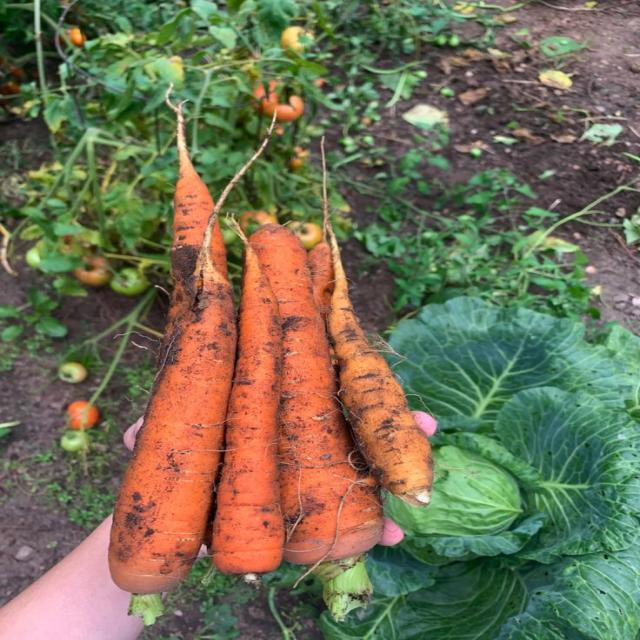carrot: (109, 121, 274, 623), (250, 225, 381, 564), (109, 252, 235, 593), (328, 228, 433, 506), (212, 228, 284, 579), (159, 88, 213, 363), (308, 138, 333, 319), (308, 239, 334, 319)
